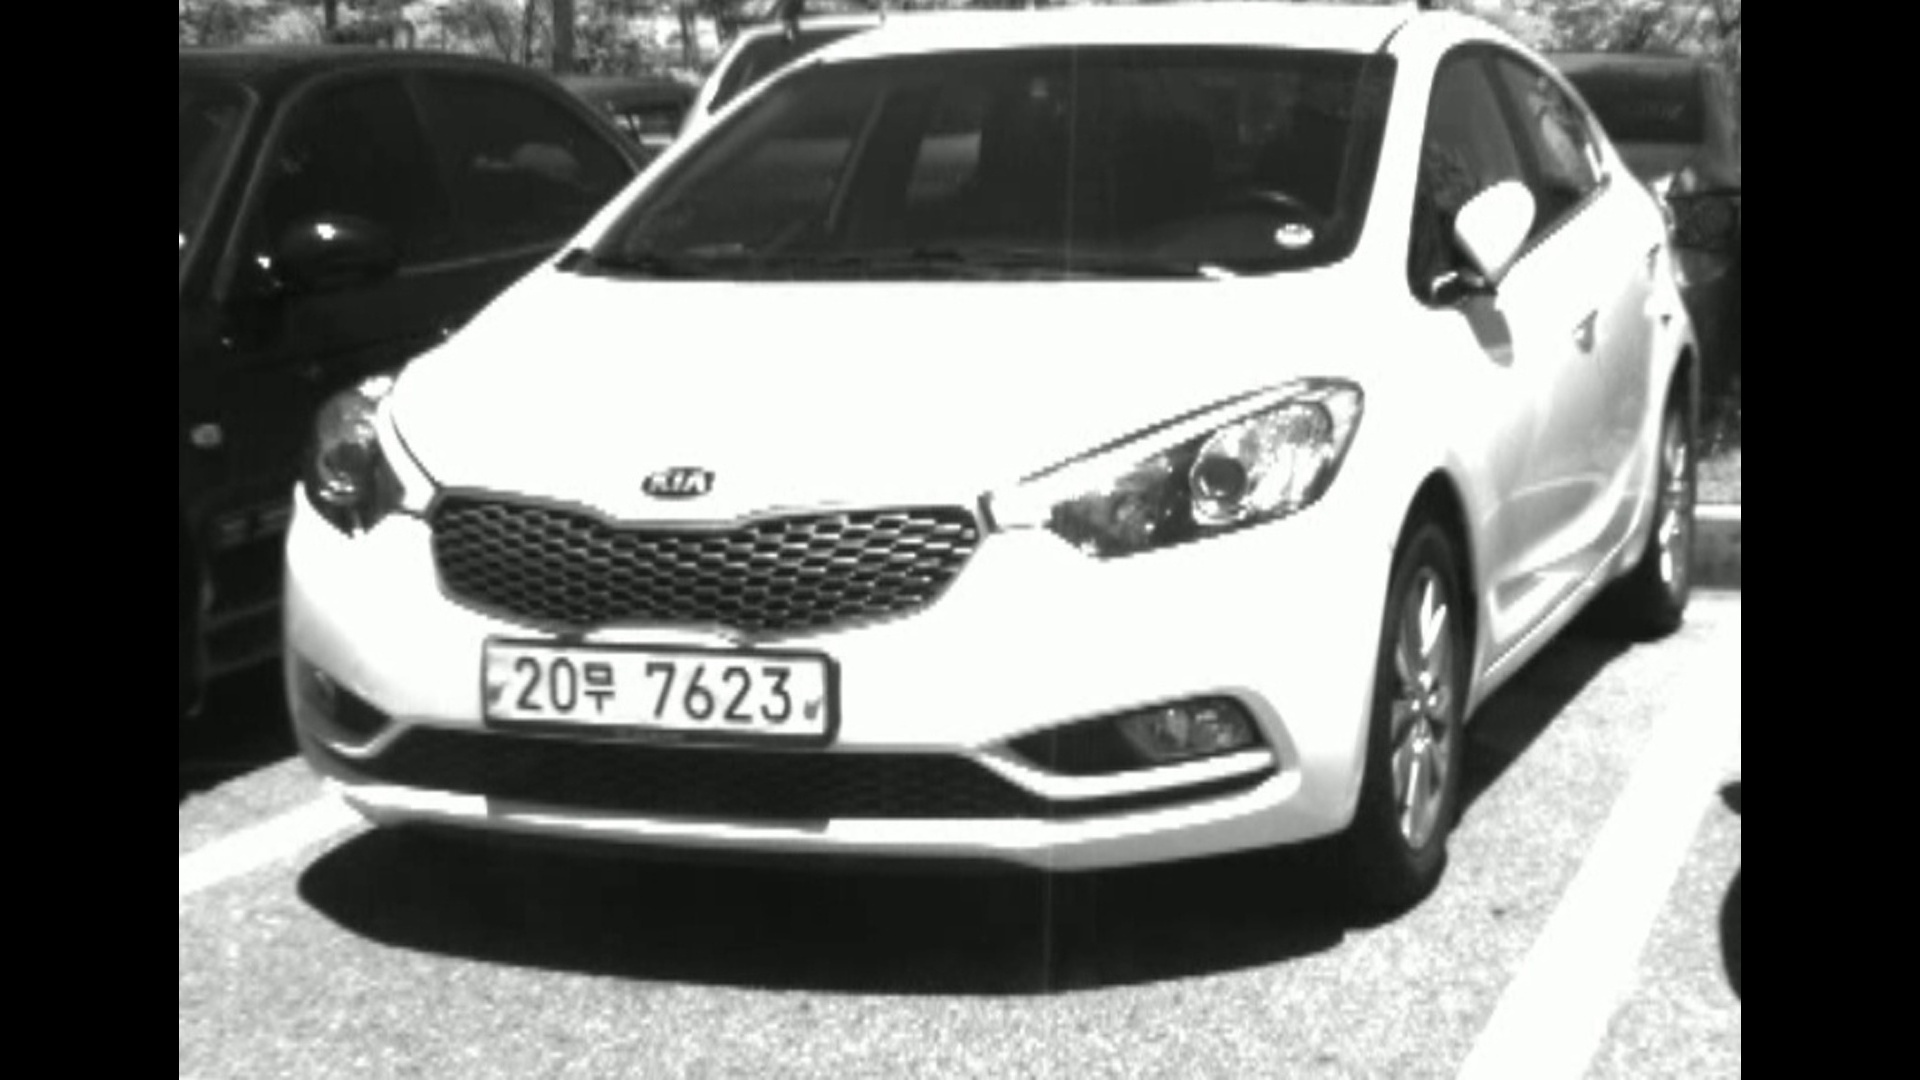license_plate: (474, 634, 839, 750)
